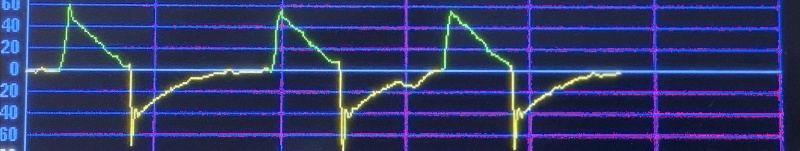normal_flow: (23, 2, 625, 151)
